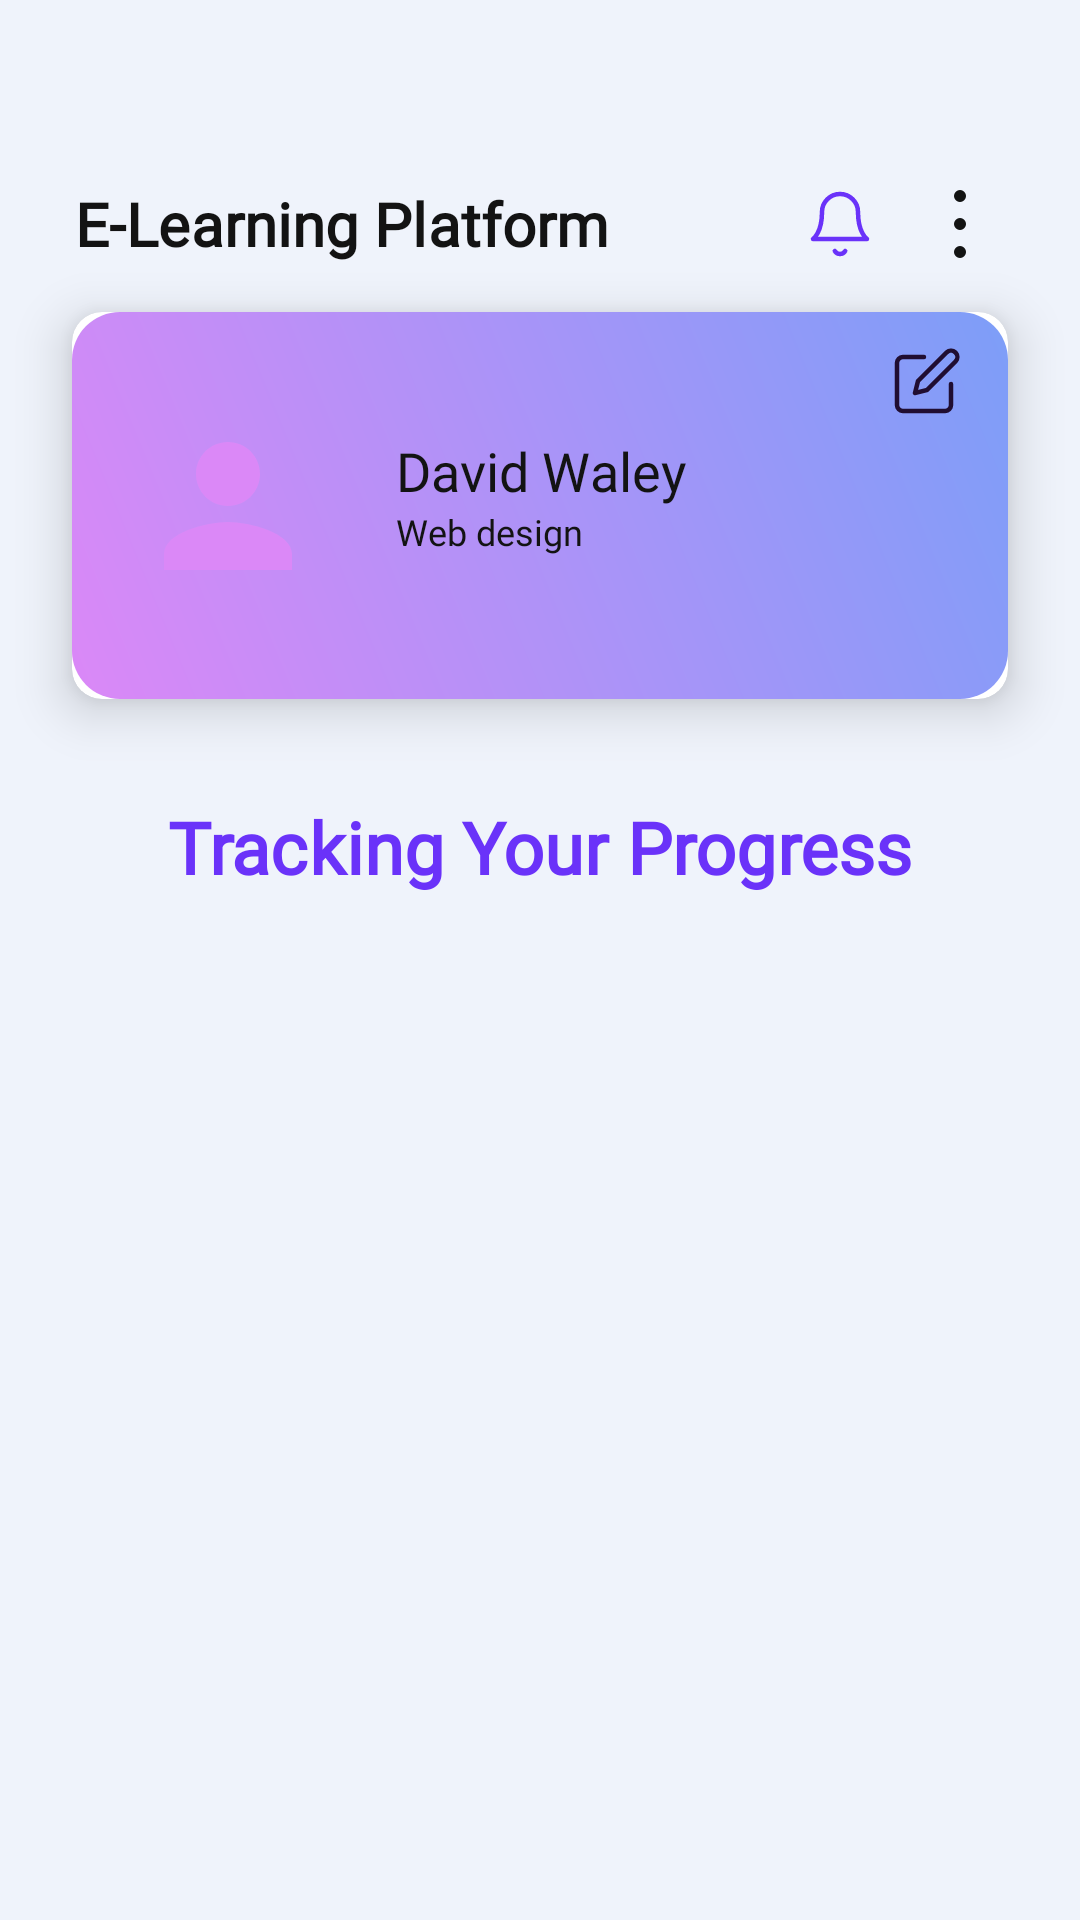

Locate icon controls on the screen. Image size 1080 × 1920, boxes as (x1, y1, x2, y2).
Edit profile: (894, 348, 960, 414)
More options: (954, 190, 966, 258)
Notifications: (810, 191, 870, 257)
